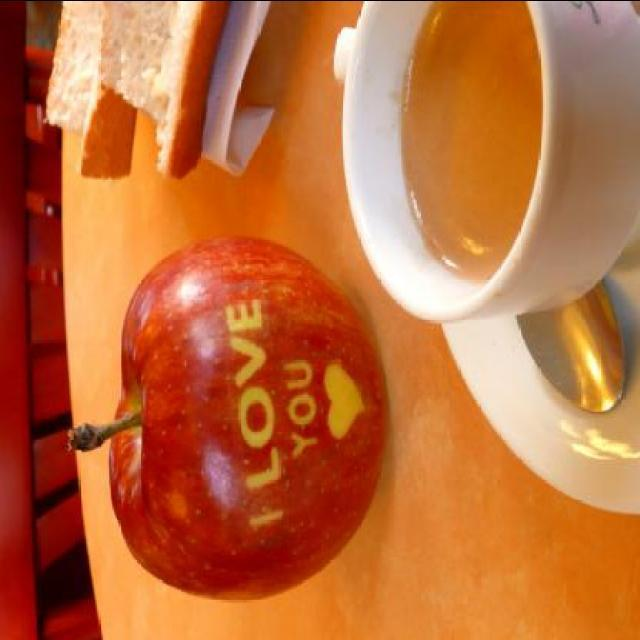Apple pie: (95, 218, 407, 604)
